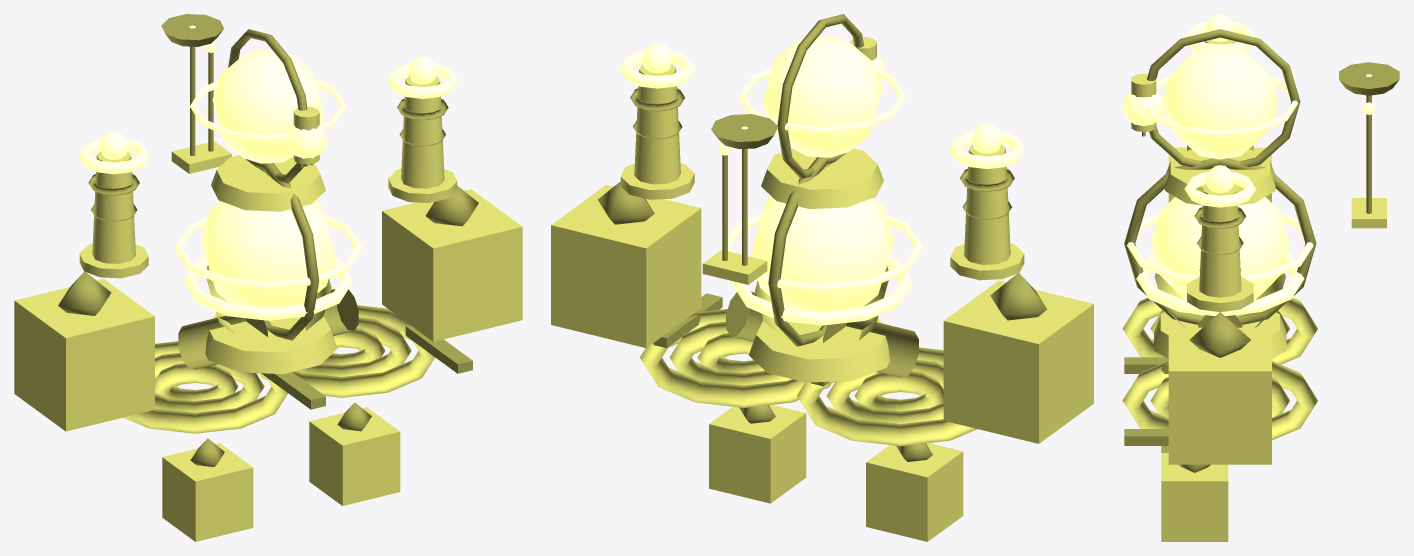
Rendered from golem_097.glb.
The picture shows the model from 3 angles, left to right: view 1: azimuth 30°, elevation 25°; view 2: azimuth 150°, elevation 25°; view 3: azimuth 270°, elevation 25°; orthographic projection. The views are drawn at different scales.
Visible parts, largest first — view 1: Body, Glow, Detail; view 2: Body, Glow, Detail; view 3: Body, Glow, Detail.
Part boxes in pixels (x1,y1,x2,y2): Body: (14, 76, 522, 541); Glow: (78, 25, 458, 320); Detail: (58, 14, 478, 466); Body: (551, 37, 1093, 541); Glow: (619, 35, 1025, 325); Detail: (598, 14, 1047, 461); Body: (1122, 40, 1386, 541); Glow: (1122, 14, 1375, 316); Detail: (1124, 29, 1399, 472).
Size of the model in its own units: 1.27 by 1.22 by 0.6642.
